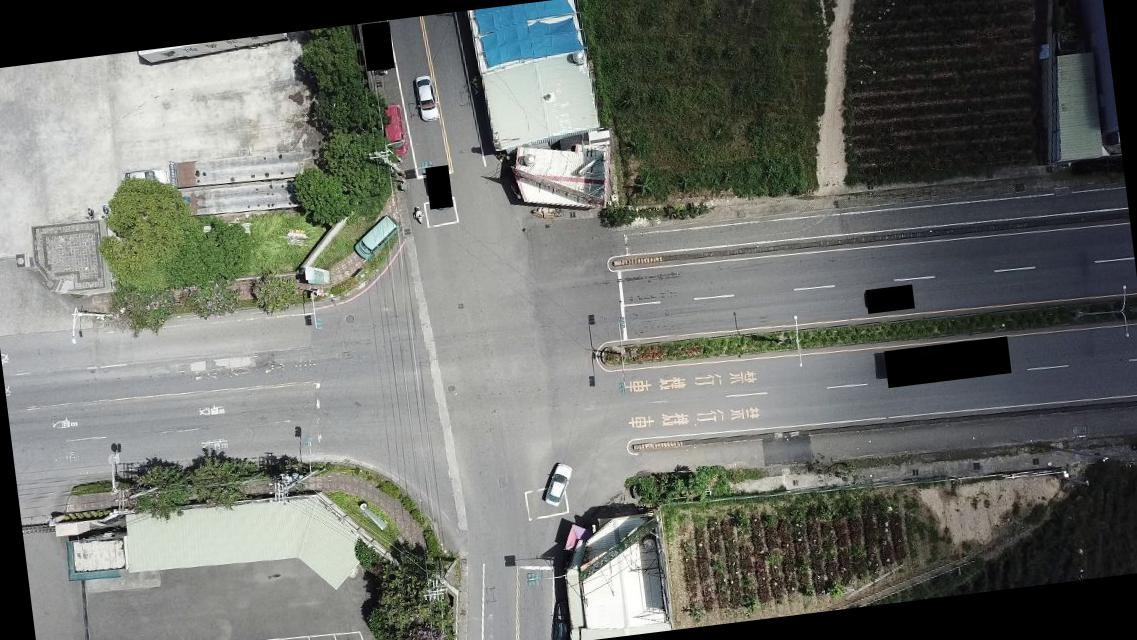vehicle: (348, 210, 402, 260), (538, 458, 577, 510), (380, 100, 412, 159), (118, 164, 167, 194), (543, 595, 573, 639), (414, 74, 440, 122)
